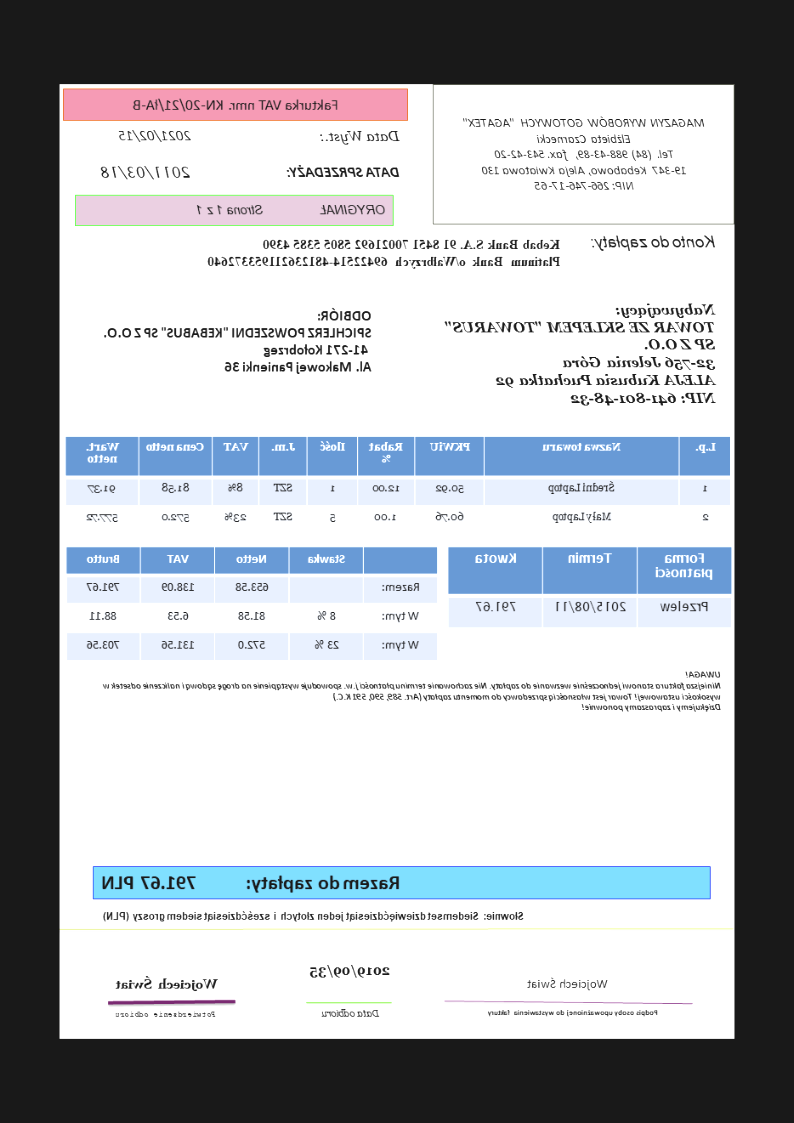Table: (65, 433, 733, 536), (65, 547, 440, 663), (447, 545, 733, 631)
TextBox: (444, 301, 718, 410), (100, 667, 723, 713), (458, 116, 709, 193), (98, 306, 375, 375), (206, 234, 564, 272), (100, 906, 529, 924), (99, 870, 406, 894), (129, 95, 343, 113), (190, 200, 388, 219), (588, 231, 721, 251), (286, 162, 403, 183), (111, 973, 224, 994), (484, 1006, 661, 1018), (98, 161, 193, 181), (117, 123, 192, 146), (525, 973, 613, 992), (306, 961, 394, 980), (315, 127, 403, 145), (113, 1007, 219, 1020), (320, 1004, 382, 1020)
